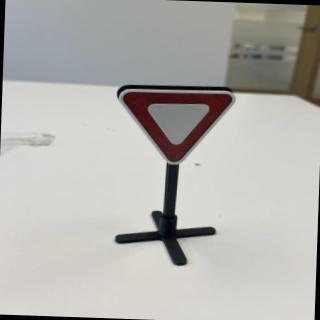sign_yield: (115, 84, 243, 171)
